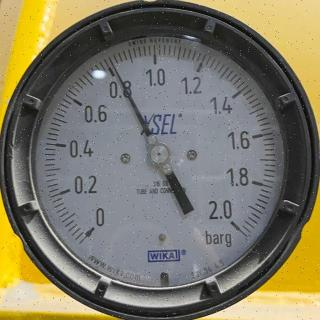gauge: (16, 21, 305, 302), (72, 204, 115, 252), (0, 314, 192, 319), (219, 207, 245, 237), (146, 142, 170, 166), (102, 54, 114, 67)
